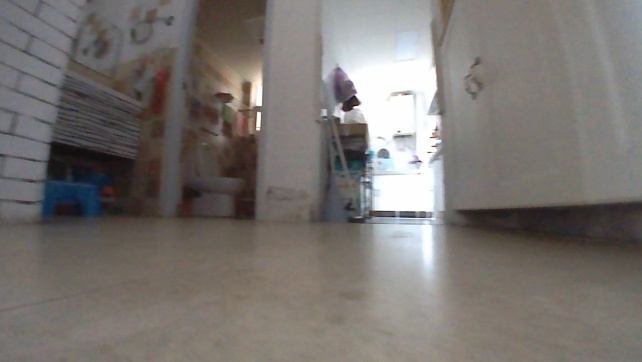toilet: (180, 136, 250, 218)
